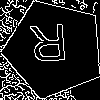R: (29, 23, 69, 72)
